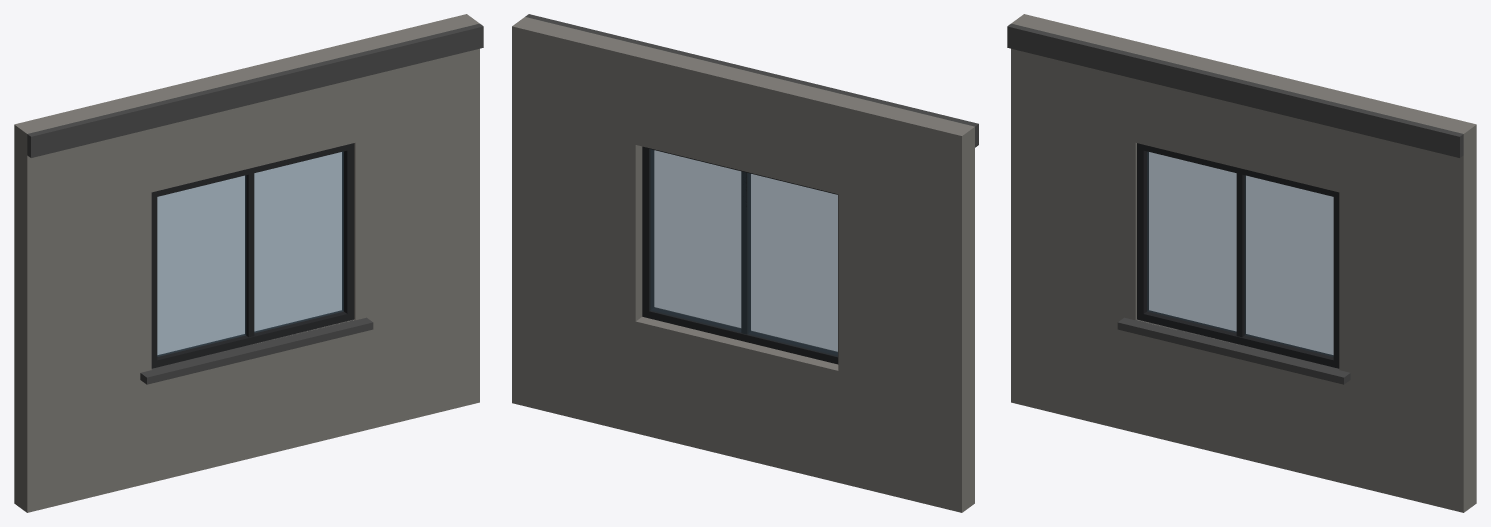
File: KIT_Wall_4m_Window_Concrete.glb
3 renders of one model, left to right at view 1: azimuth 30°, elevation 25°; view 2: azimuth 150°, elevation 25°; view 3: azimuth 330°, elevation 25°, orthographic.
Visible parts, largest first — view 1: KIT_Wall_4m_Window_Concrete; view 2: KIT_Wall_4m_Window_Concrete; view 3: KIT_Wall_4m_Window_Concrete.
Part boxes in pixels (<box>): KIT_Wall_4m_Window_Concrete: <box>14,14,483,512</box>; KIT_Wall_4m_Window_Concrete: <box>512,14,978,512</box>; KIT_Wall_4m_Window_Concrete: <box>1007,14,1476,512</box>.
Size of the model in its own units: 4 by 3.2 by 0.3.
